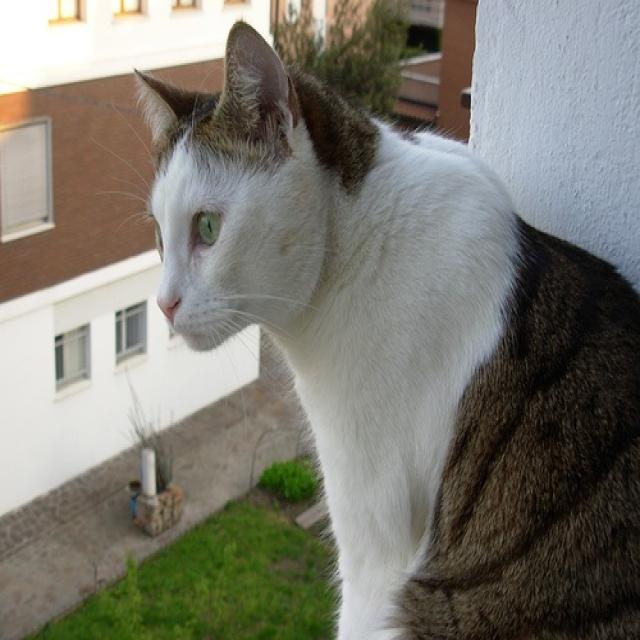cat: (133, 19, 639, 638)
